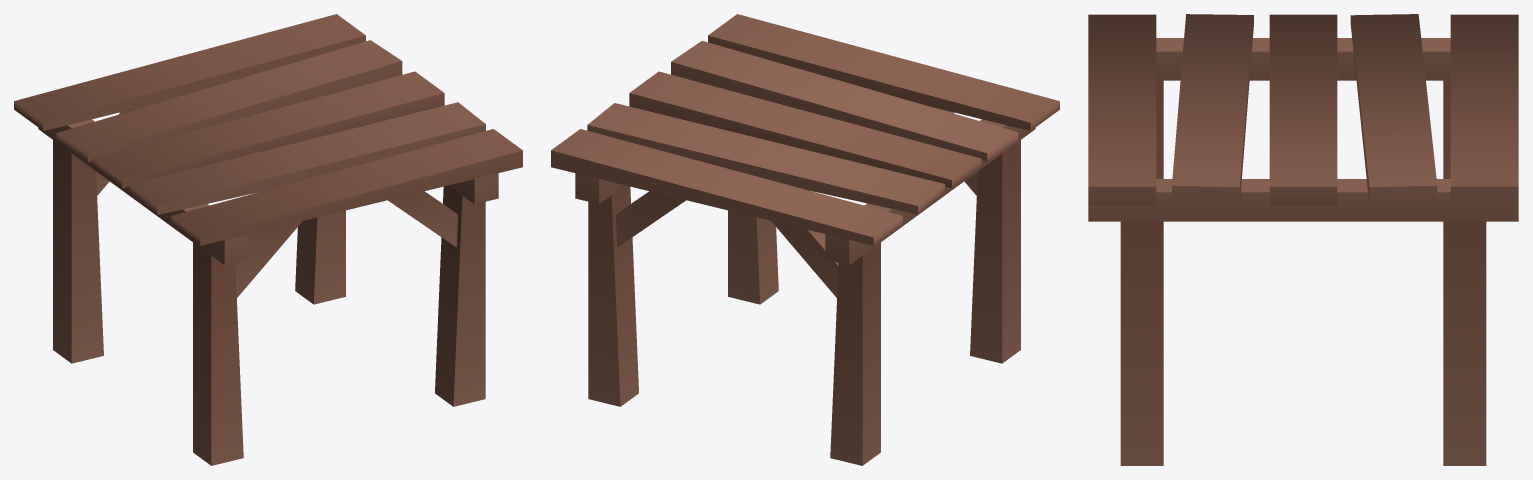
Rendered from template-floor-layer-raised.glb.
3 renders of one model, left to right at view 1: azimuth 30°, elevation 25°; view 2: azimuth 150°, elevation 25°; view 3: azimuth 270°, elevation 25°, orthographic. The views are drawn at different scales.
Visible parts, largest first — view 1: template-floor-layer-raised; view 2: template-floor-layer-raised; view 3: template-floor-layer-raised.
Part boxes in pixels (x1,y1,x2,y2): template-floor-layer-raised: (14, 14, 522, 465); template-floor-layer-raised: (551, 14, 1059, 465); template-floor-layer-raised: (1088, 14, 1518, 465).
Size of the model in its own units: 4.02 by 3 by 4.
1 material, 1 textured.
